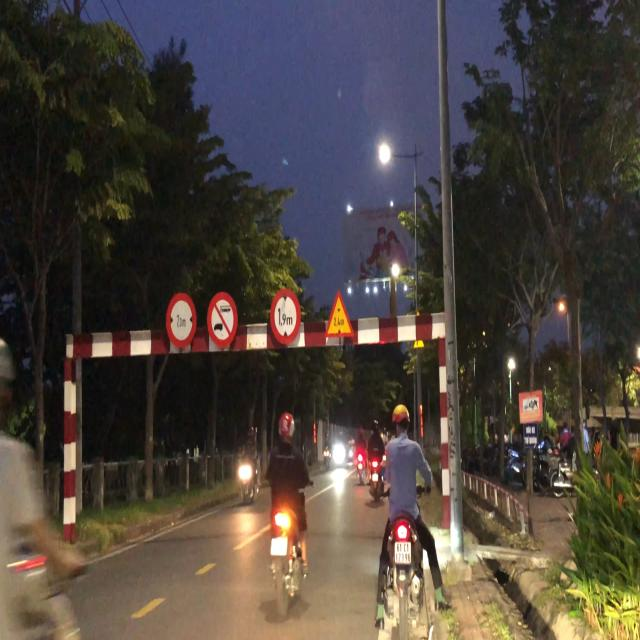Bien bao cam xe oto khach va xe oto tai: (205, 287, 238, 350)
Bien bao chieu cao tinh khong thuc te: (268, 281, 307, 354), (323, 288, 357, 352)
